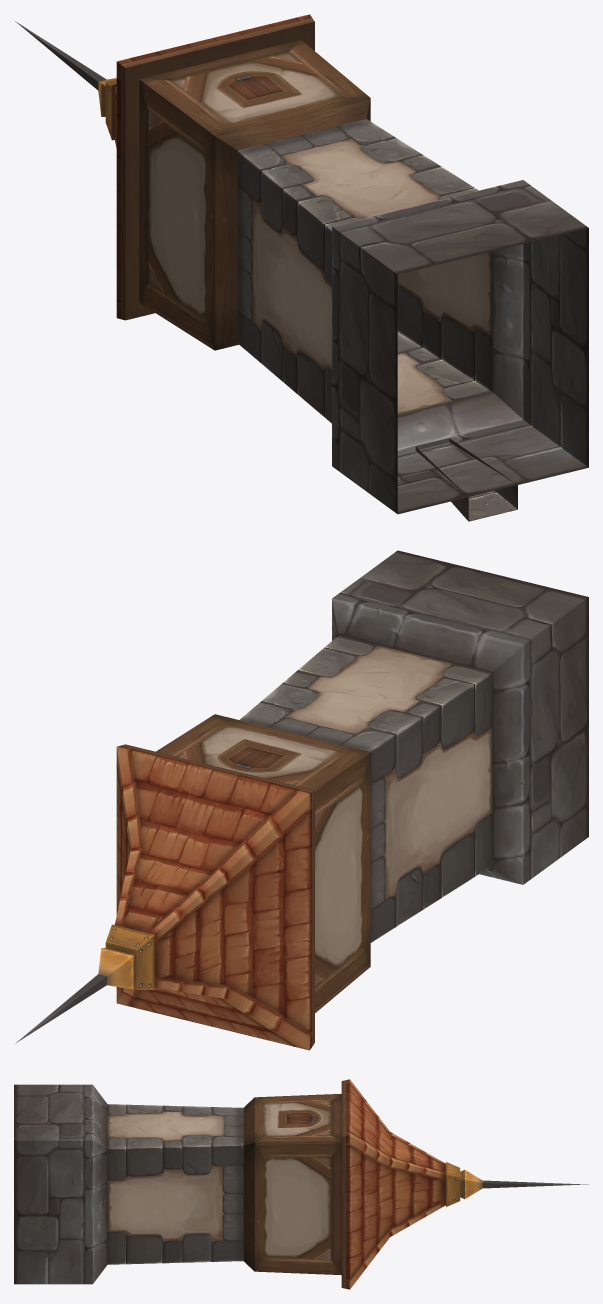
Rendered from Wall_tower1.fbx.
3 views of the same model, one above another, from view 1: azimuth 30°, elevation 25°; view 2: azimuth 150°, elevation 25°; view 3: azimuth 270°, elevation 25° (orthographic). The views are drawn at different scales.
Visible parts, largest first — view 1: Wall_tower1; view 2: Wall_tower1; view 3: Wall_tower1.
Boxes of the visible parts, x1=… form: Wall_tower1: x1=15, y1=14, x2=588, y2=521; Wall_tower1: x1=15, y1=550, x2=588, y2=1050; Wall_tower1: x1=14, y1=1079, x2=588, y2=1289.
Size of what is drawn, in the model's own units: 2.02 by 2.72 by 8.67.
